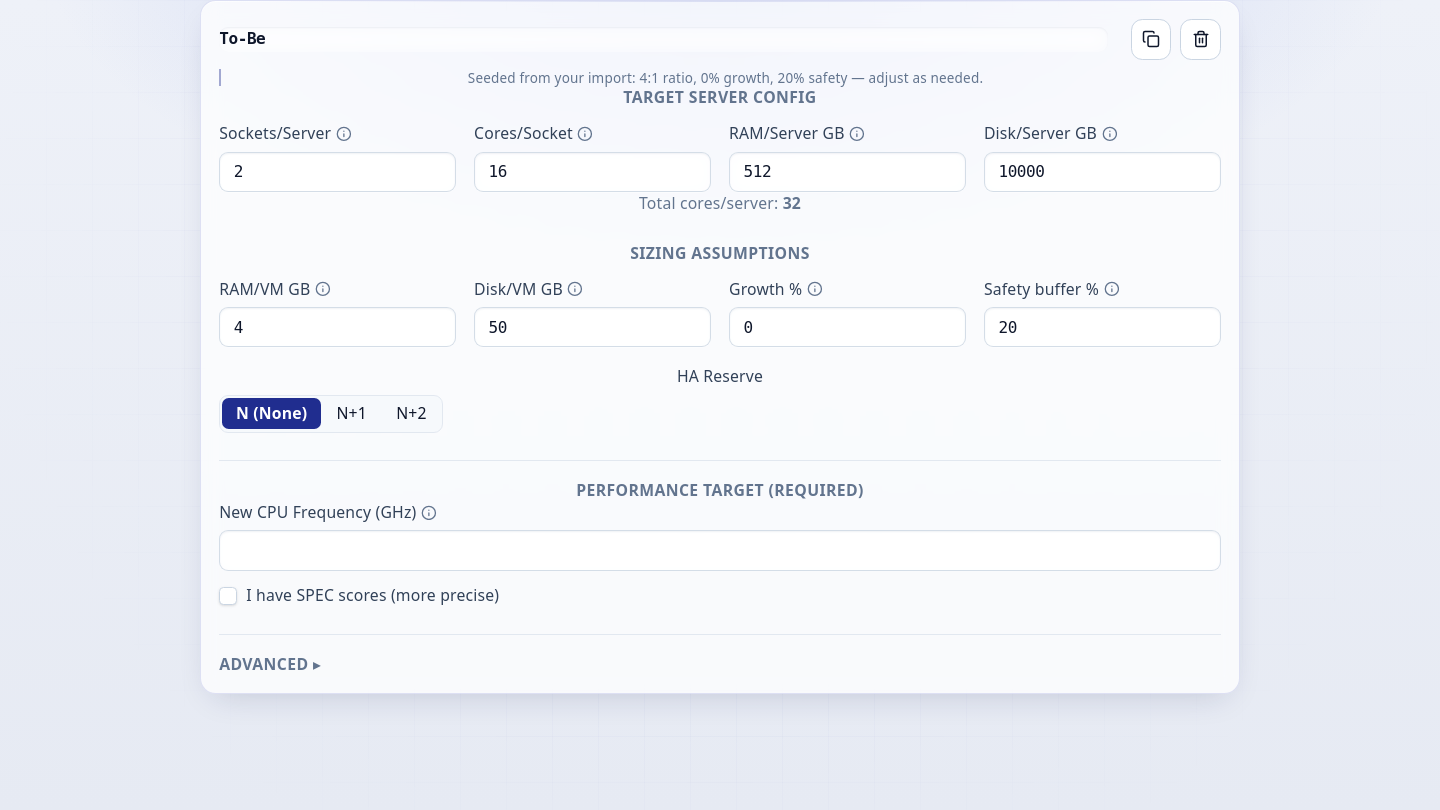
SPEC-06..09: auto-derive and read-only fields (performance + SPEC) › in performance+SPEC mode WITHOUT cluster metadata, a warning message is visible
Click the checkbox named "i have spec scores".
click(228, 596)  # box [219, 587, 237, 605]
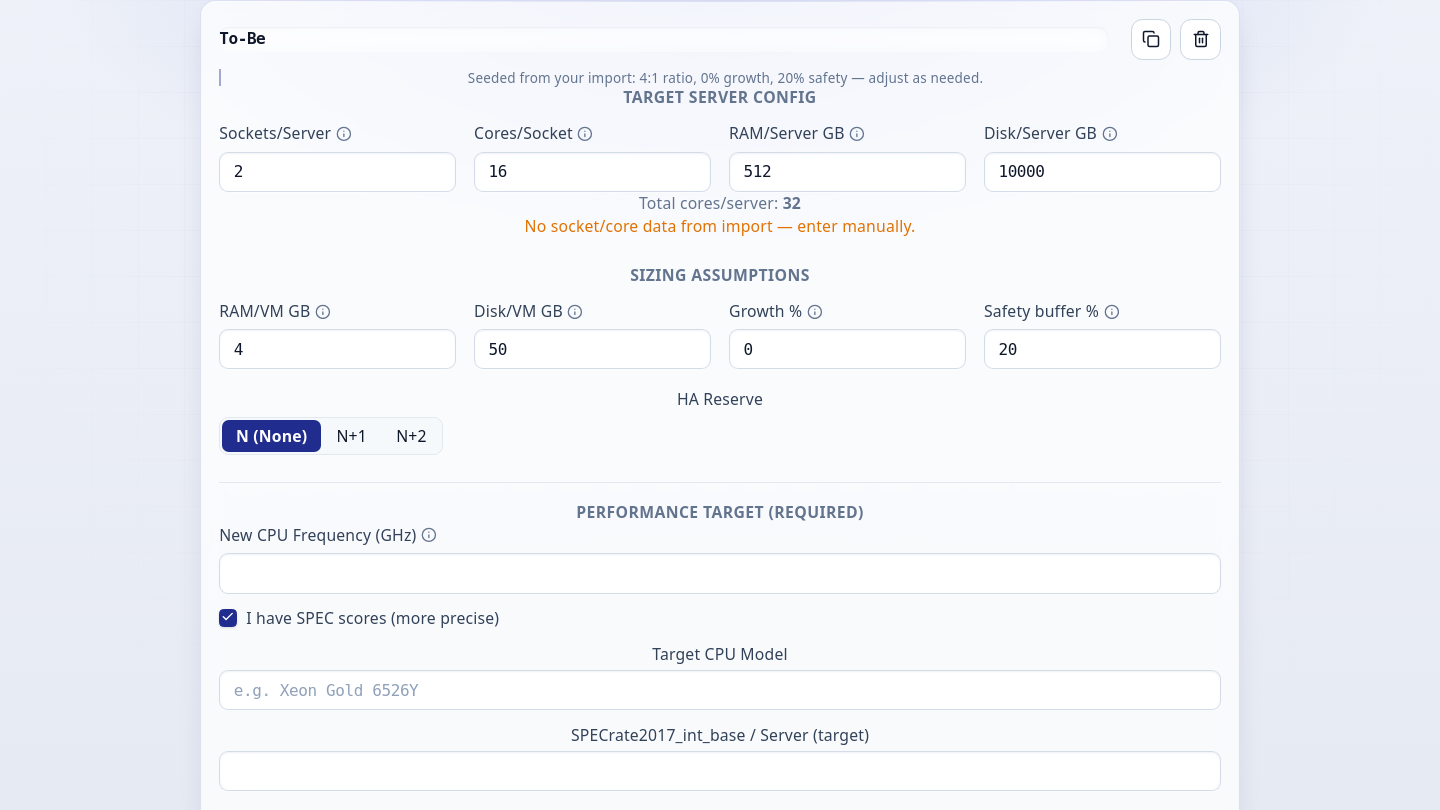
Now the text "No socket/core data from import — enter manually." is shown, box [525, 215, 915, 237]
